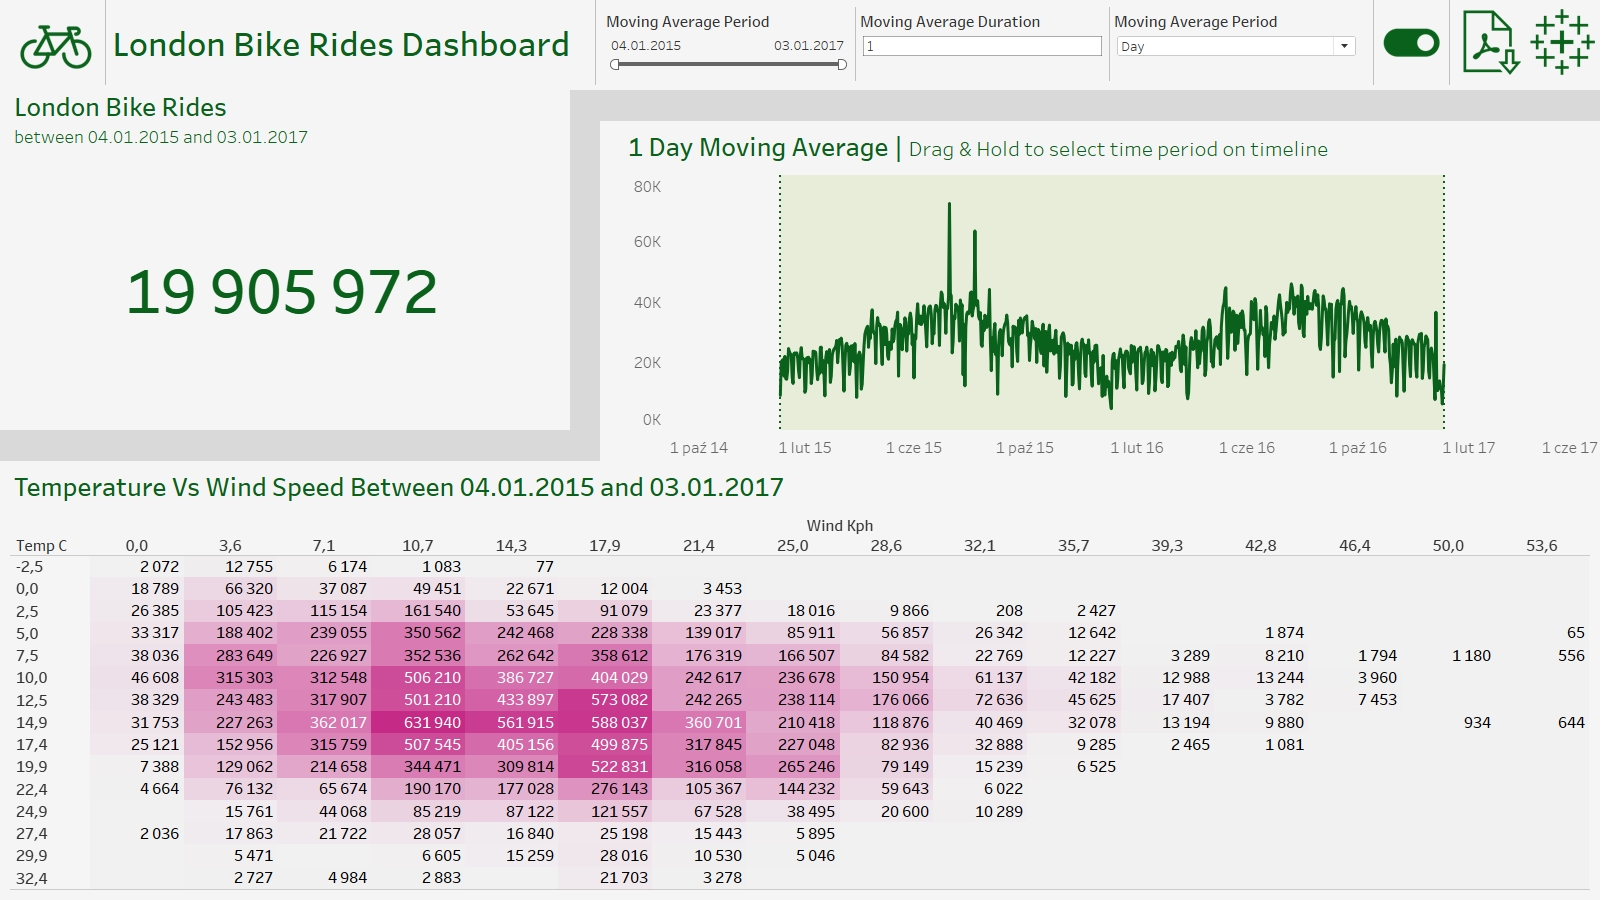

The dashboard page shown, as its layout file describes it:
{"tool":"tableau","page":{"name":"Dashboard 1","canvas":[1600,900],"ordinal":0},"visuals":[{"type":"image","param":"Image/Frame 1.png","box":[0,0,1600,900]},{"type":"image","param":"Image/icons8-bike-100.png","box":[10,0,92,85]},{"type":"blank","box":[102,0,7,85]},{"type":"text","box":[109,0,485.9,85]},{"type":"blank","box":[594.9,0,1,85]},{"type":"blank","box":[596,0,777,85]},{"type":"blank","box":[1373,0,1,85]},{"type":"dashboard-object","box":[1374,0,75,85]},{"type":"blank","box":[1449,0,1,85]},{"type":"dashboard-object","box":[1450,0,75,85]},{"type":"image","param":"Image/icons8-tableau-software-100 green.png","box":[1525,0,75,85]},{"type":"filter","title":"MovingAverage","param":"[federated.0kvmavr1f8u9ty1g95tx501du3rp].[none:Calculation_395472404516065281:qk","box":[602,7,253,74]},{"type":"blank","box":[855,7,1,74]},{"type":"parameter","param":"[Parameters].[Parameter 2]","box":[856,7,253,74]},{"type":"blank","box":[1109,7,1,74]},{"type":"parameter","param":"[Parameters].[Parameter 1]","box":[1110,7,253,74]},{"type":"worksheet","title":"TotalRides","mark":"Automatic","box":[0,85,594,375]},{"type":"worksheet","title":"MovingAverage","mark":"Automatic","rows":["Calculation1"],"cols":["Calculation_395472404516065281"],"box":[594,85,1006,375]},{"type":"worksheet","title":"Heat Map","mark":"Square","rows":["temp real C (bin)"],"cols":["Wind Speed Kph (bin)"],"box":[0,460,1600,439.9]}]}

Visuals, with their boxes in screenshot pixels (x1, y1, x2, y2), scaled from the page's 1600x900 canvas onto the 1601x900 screenshot:
image: l=0, t=0, r=1600, b=899
image: l=10, t=0, r=102, b=85
blank: l=102, t=0, r=109, b=85
text: l=109, t=0, r=595, b=85
blank: l=595, t=0, r=596, b=85
blank: l=596, t=0, r=1374, b=85
blank: l=1374, t=0, r=1375, b=85
dashboard-object: l=1375, t=0, r=1450, b=85
blank: l=1450, t=0, r=1451, b=85
dashboard-object: l=1451, t=0, r=1526, b=85
image: l=1526, t=0, r=1600, b=85
"MovingAverage" filter: l=602, t=7, r=856, b=81
blank: l=856, t=7, r=857, b=81
parameter: l=857, t=7, r=1110, b=81
blank: l=1110, t=7, r=1111, b=81
parameter: l=1111, t=7, r=1364, b=81
"TotalRides" worksheet: l=0, t=85, r=594, b=460
"MovingAverage" worksheet: l=594, t=85, r=1600, b=460
"Heat Map" worksheet (Square marks): l=0, t=460, r=1600, b=899
